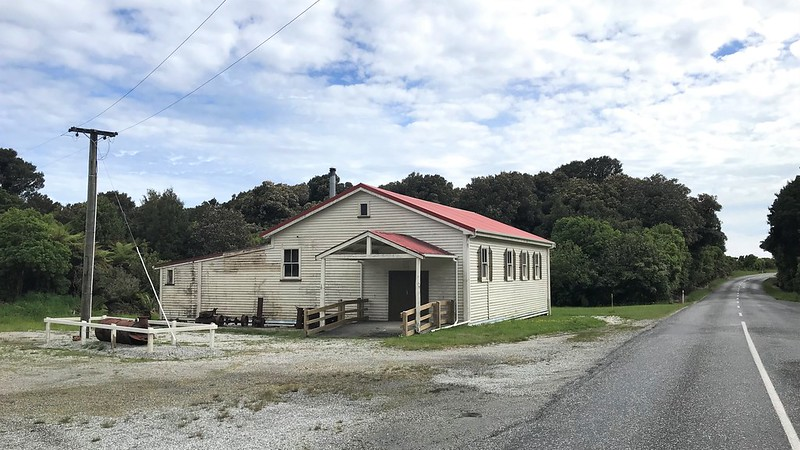low: (146, 183, 558, 345)
